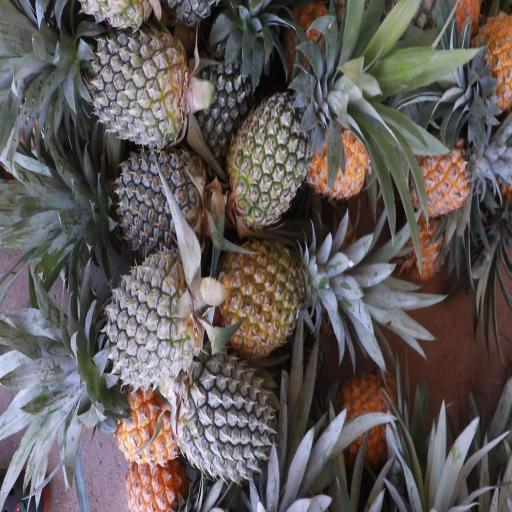------------------------------: (226, 98, 324, 221), (217, 245, 309, 358)
Pineapple - v8 v1: (104, 373, 177, 465), (336, 374, 392, 472), (309, 110, 373, 194), (416, 132, 476, 217), (471, 11, 512, 119)
